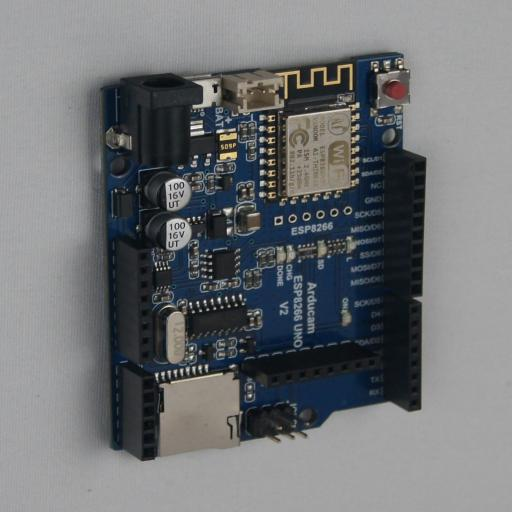Arduino Uno Camera Shield: (89, 52, 426, 461)
